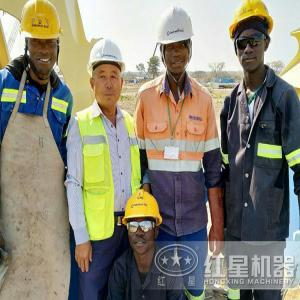white: (83, 39, 131, 111), (153, 5, 197, 77)
yellow: (19, 4, 67, 76), (230, 4, 276, 76), (123, 186, 164, 257)
